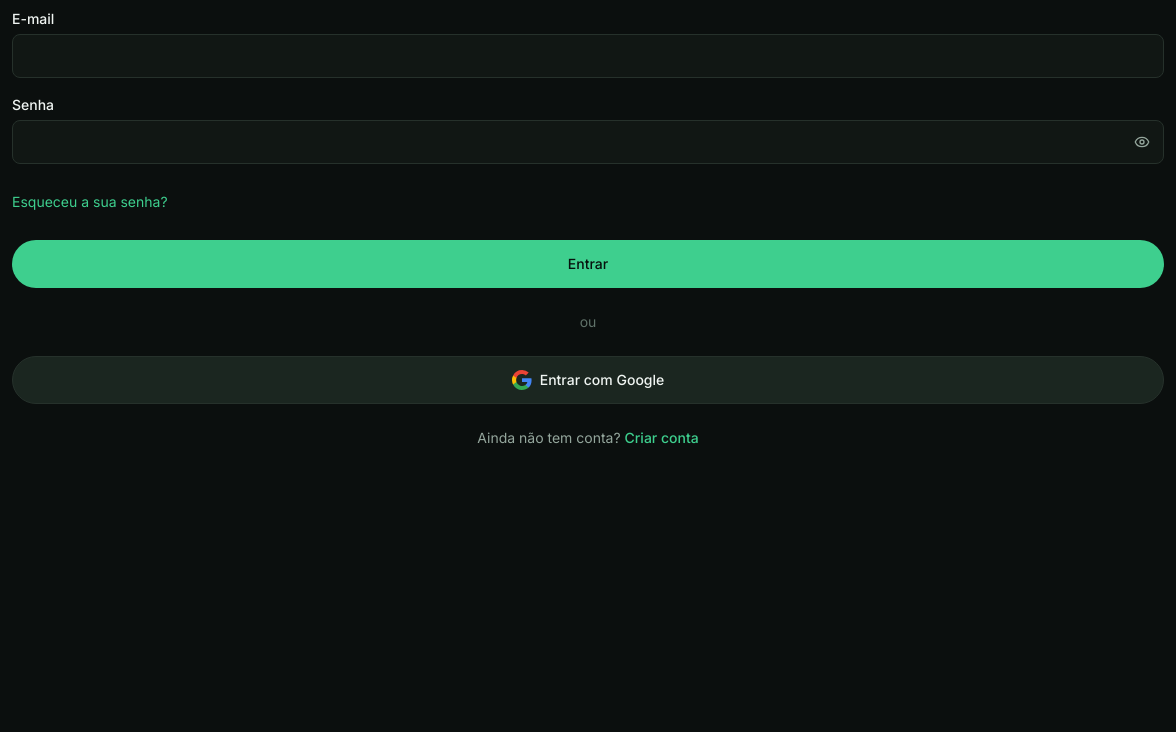
Test: LoginForm › mostra a mensagem da API para credenciais inválidas
Type "ana@a.com" into the field labelled "E-mail" at (588,56), box [12,34,1164,78]
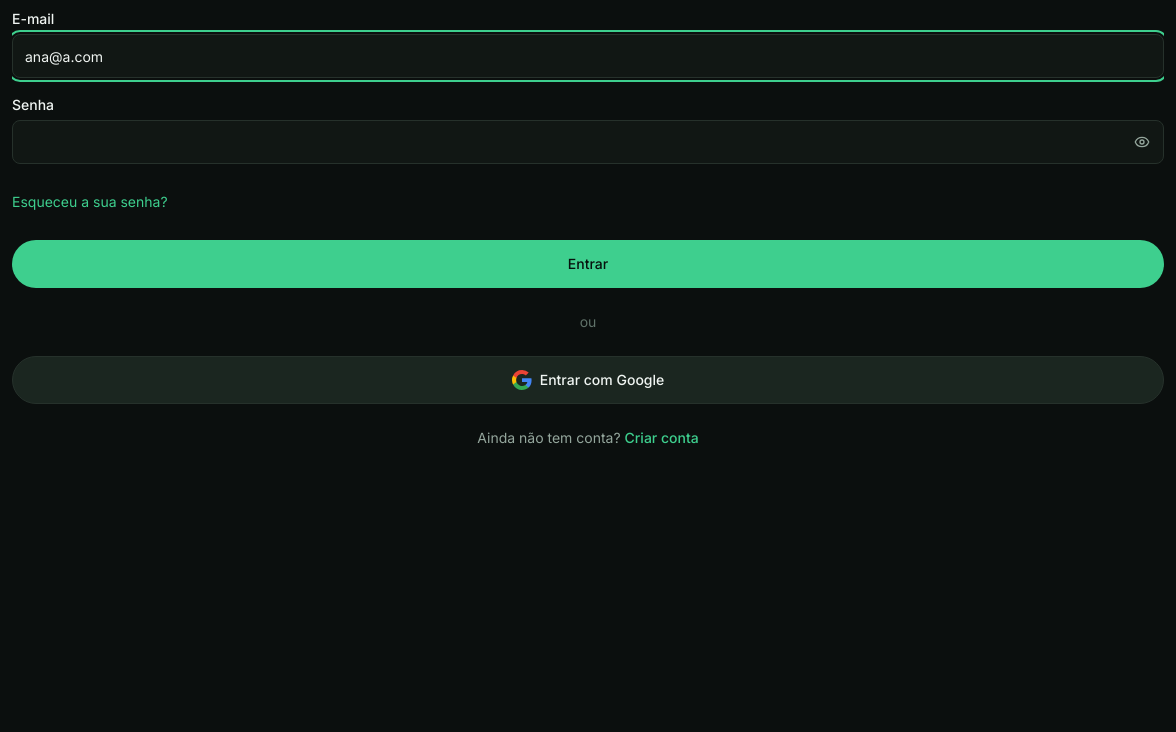
Type "errada123" into the password field labelled "Senha" at (588,142), box [12,120,1164,164]
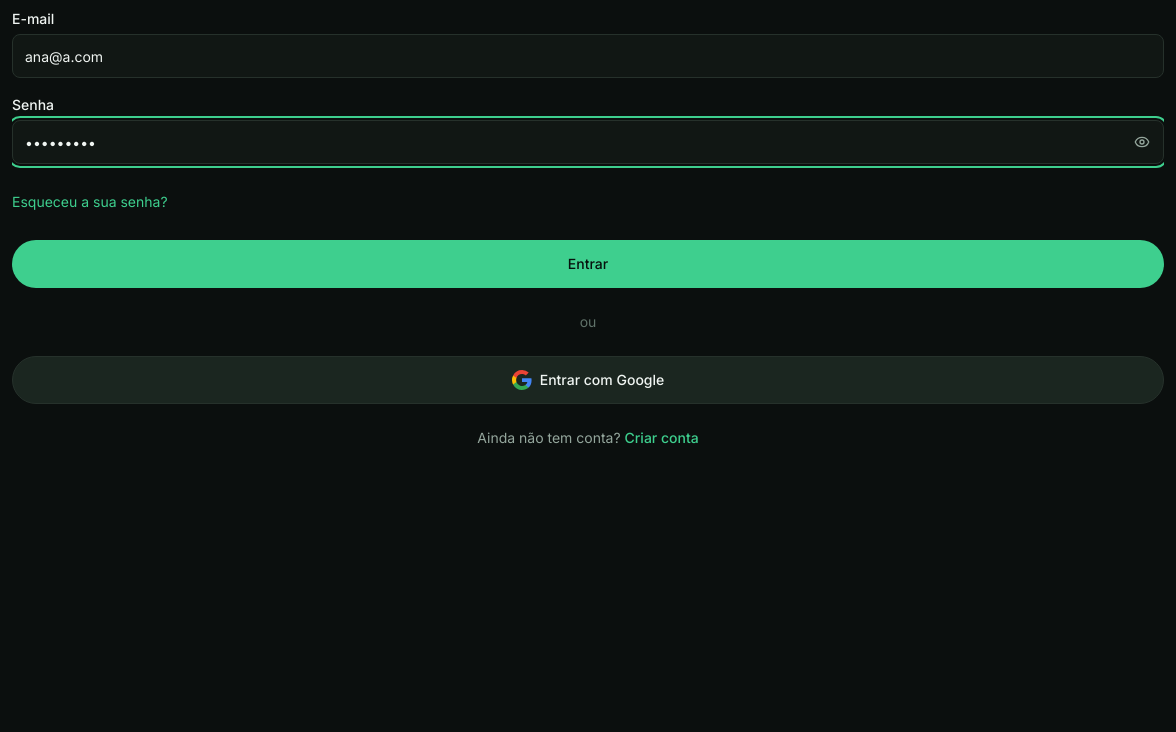
Click the button "Entrar" at (588,264), box [12,240,1164,288]
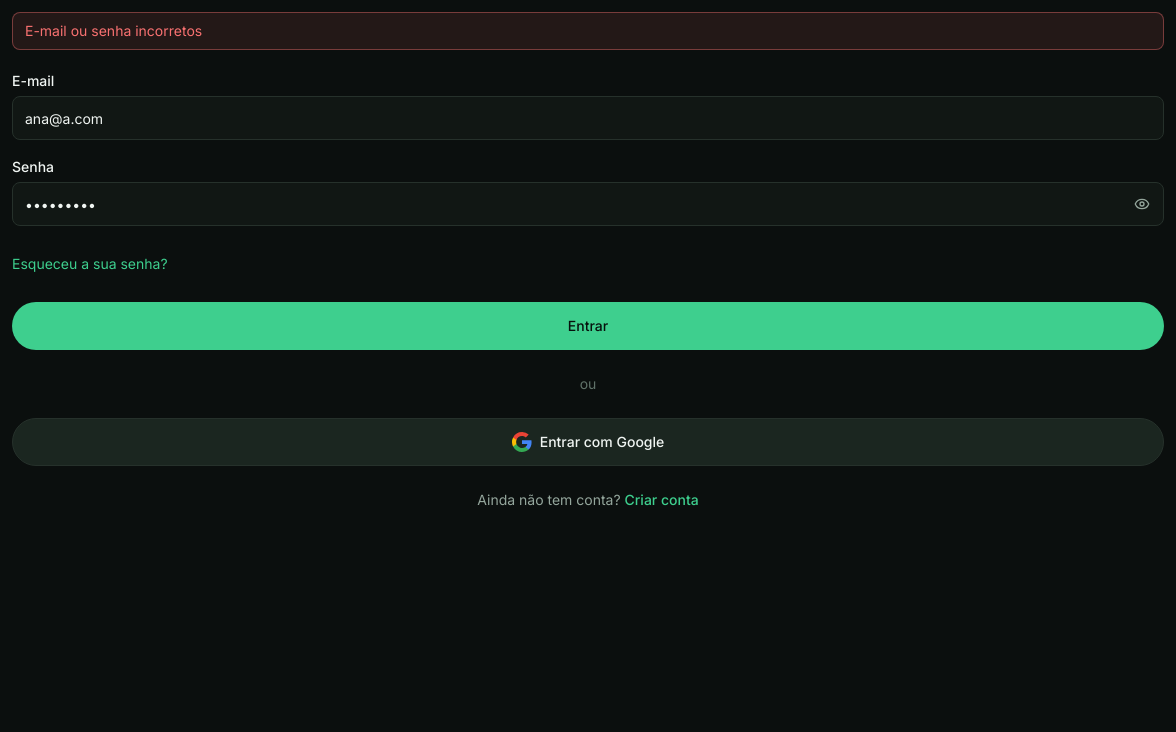
Expected: the message reads "E-mail ou senha incorretos", [25,22,202,39]
